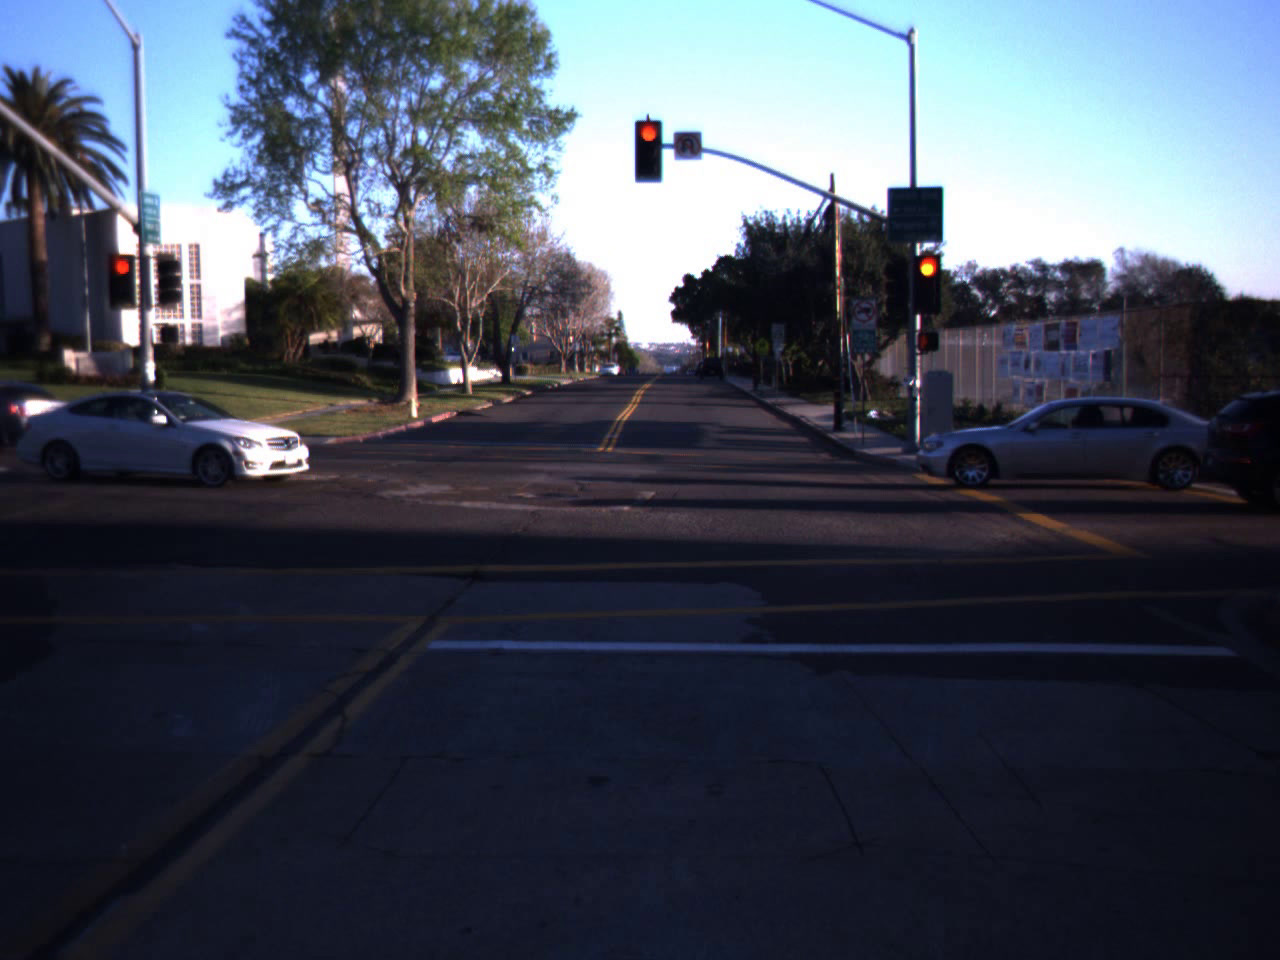stop: (906, 245, 954, 335), (627, 114, 669, 186), (102, 256, 132, 301)
